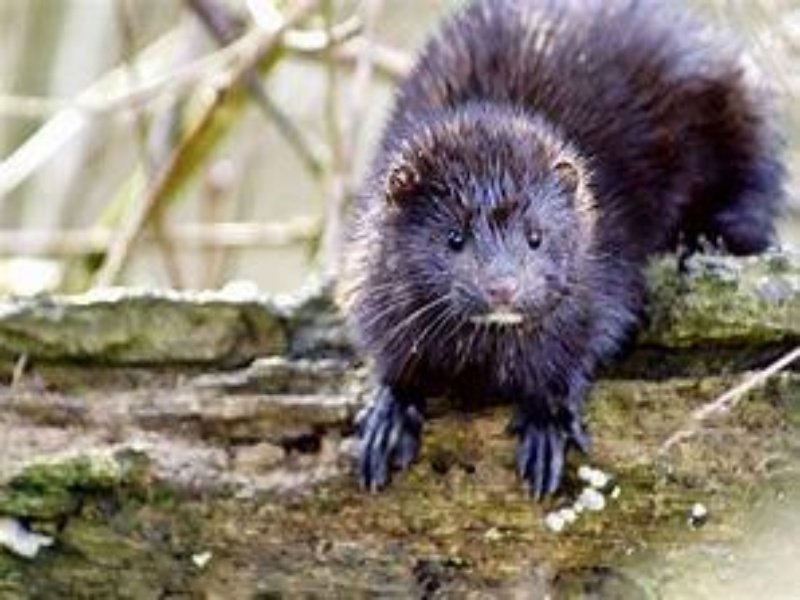minkish: (334, 1, 779, 495)
